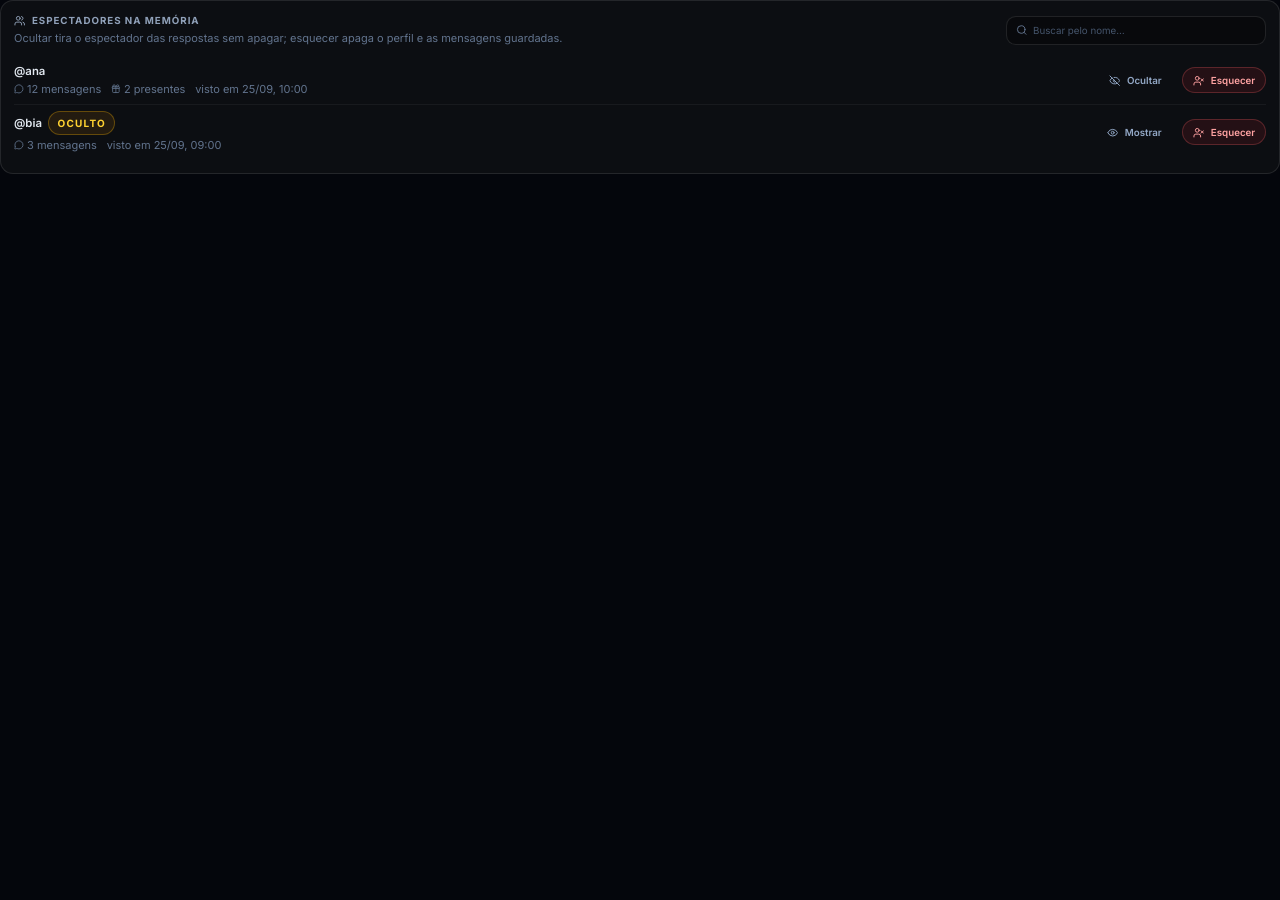
Scenario: ChatMemoryProfiles (#252) › ocultar muda a linha sem recarregar a lista
Step 1. Click the button "Ocultar" → point(1135, 80), box x1=1098 y1=67 x2=1172 y2=93
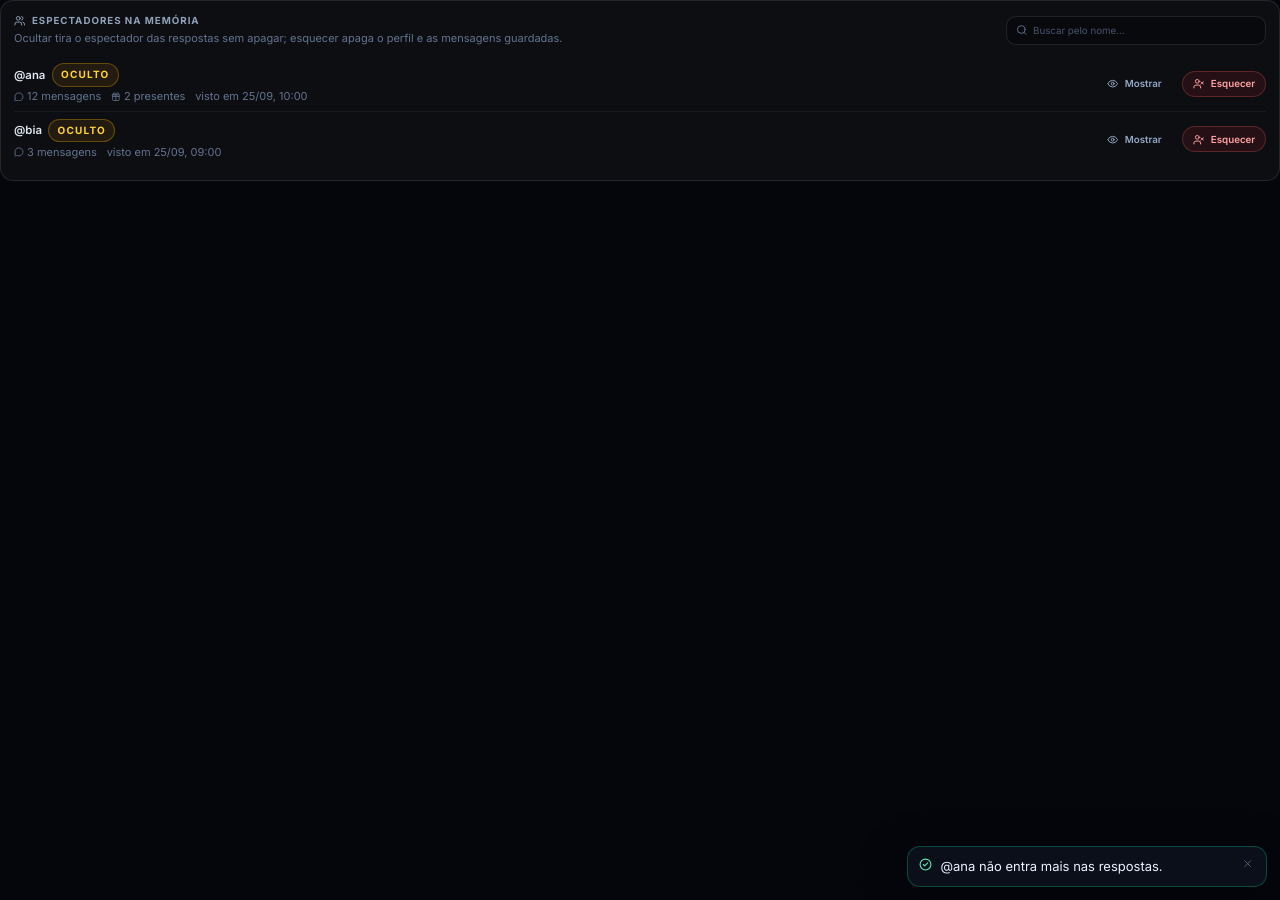
Check: the 1st text "oculto" is shown, box x1=52 y1=63 x2=119 y2=86
Check: the text "@ana não entra mais nas respostas." is shown, box x1=940 y1=858 x2=1163 y2=874
